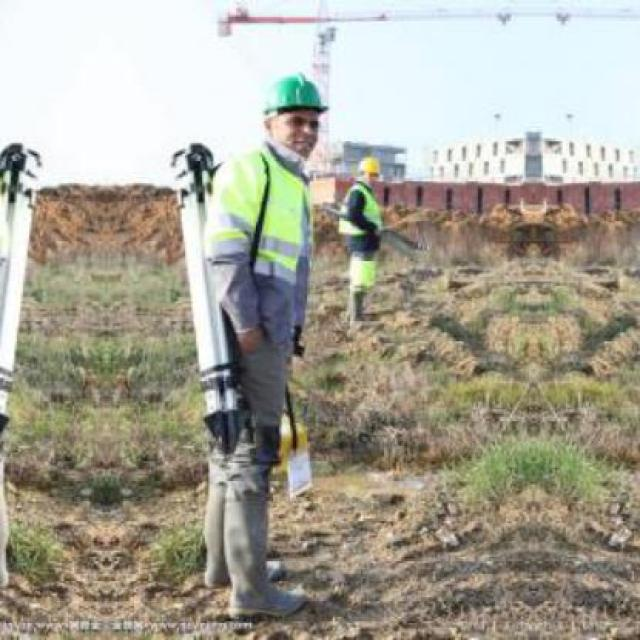helmet: (258, 67, 330, 161), (356, 150, 380, 184)
